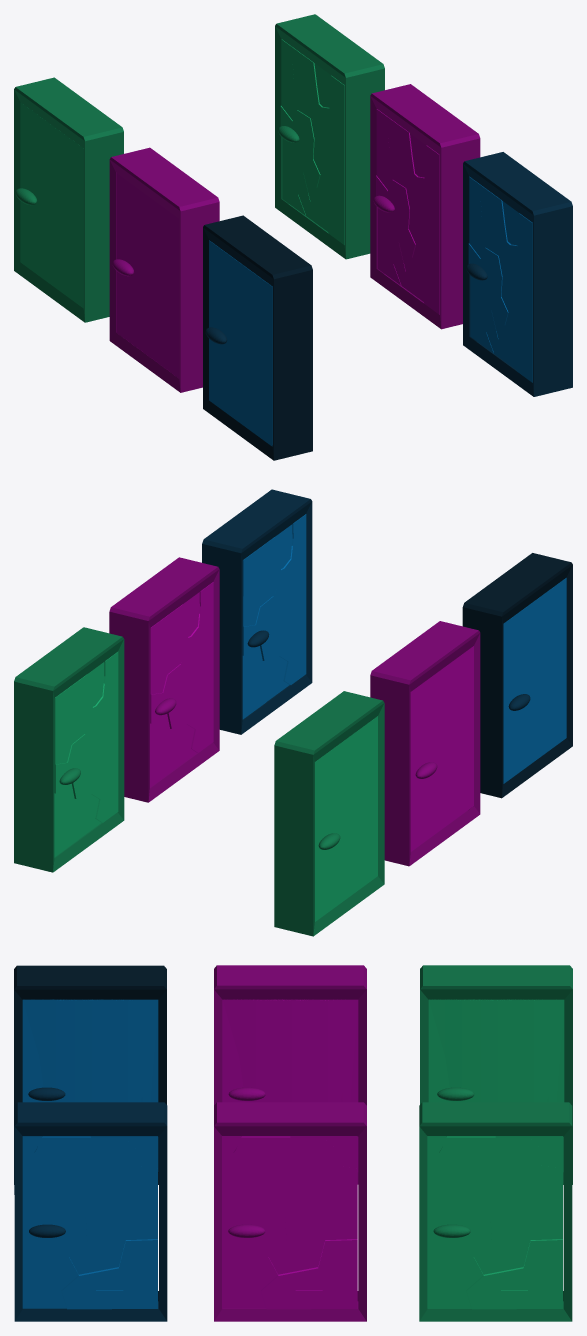
Rendered from Kapılar.fbx.
The picture shows the model from 3 angles, top to bottom: view 1: azimuth 30°, elevation 25°; view 2: azimuth 150°, elevation 25°; view 3: azimuth 270°, elevation 25°; orthographic projection. The views are drawn at different scales.
Parts seen in each view (by area): view 1: Sphere.005, Cube.004, Sphere.003, Cube.023, Cube.025, Cube.012, Cube.010, Cube.021, Cube.027, Cube.008, Cube.020, Cube.029 (+17 smaller); view 2: Cube.004, Sphere.003, Sphere.005, Cube.025, Cube.012, Cube.023, Cube.021, Cube.027, Cube.010, Cube.019, Cube.029, Cube.008 (+18 smaller); view 3: Cube.004, Sphere.005, Sphere.003, Cube.025, Cube.023, Cube.012, Cube.010, Cube.027, Cube.021, Cube.009, Cube.028, Cube.020 (+21 smaller).
Boxes of the visible parts, bbox=[...] form: Sphere.005: bbox=[203, 215, 312, 460]; Cube.004: bbox=[14, 77, 123, 322]; Sphere.003: bbox=[109, 147, 219, 392]; Cube.023: bbox=[463, 152, 572, 396]; Cube.025: bbox=[275, 14, 384, 259]; Cube.012: bbox=[370, 84, 480, 329]; Cube.010: bbox=[376, 123, 414, 190]; Cube.021: bbox=[469, 191, 507, 257]; Cube.027: bbox=[281, 53, 319, 120]; Cube.008: bbox=[377, 208, 405, 285]; Cube.020: bbox=[468, 243, 508, 325]; Cube.029: bbox=[282, 138, 310, 215]; Cube.004: bbox=[274, 691, 384, 936]; Sphere.003: bbox=[370, 621, 480, 866]; Sphere.005: bbox=[462, 553, 572, 798]; Cube.025: bbox=[14, 627, 124, 872]; Cube.012: bbox=[109, 557, 219, 802]; Cube.023: bbox=[202, 489, 312, 734]; Cube.021: bbox=[242, 536, 280, 626]; Cube.027: bbox=[54, 674, 92, 764]; Cube.010: bbox=[150, 604, 188, 694]; Cube.019: bbox=[242, 646, 270, 719]; Cube.029: bbox=[54, 783, 82, 857]; Cube.008: bbox=[150, 714, 177, 787]; Cube.004: bbox=[420, 965, 572, 1184]; Sphere.005: bbox=[14, 965, 166, 1184]; Sphere.003: bbox=[214, 965, 366, 1184]; Cube.025: bbox=[419, 1102, 572, 1321]; Cube.023: bbox=[14, 1102, 167, 1321]; Cube.012: bbox=[214, 1102, 366, 1321]; Cube.010: bbox=[278, 1136, 357, 1211]; Cube.027: bbox=[483, 1136, 562, 1212]; Cube.021: bbox=[79, 1136, 157, 1212]; Cube.009: bbox=[268, 1197, 357, 1274]; Cube.028: bbox=[474, 1197, 562, 1274]; Cube.020: bbox=[69, 1197, 157, 1274].
Bounding box in the file's own units: 1075 × 600 × 1528.
